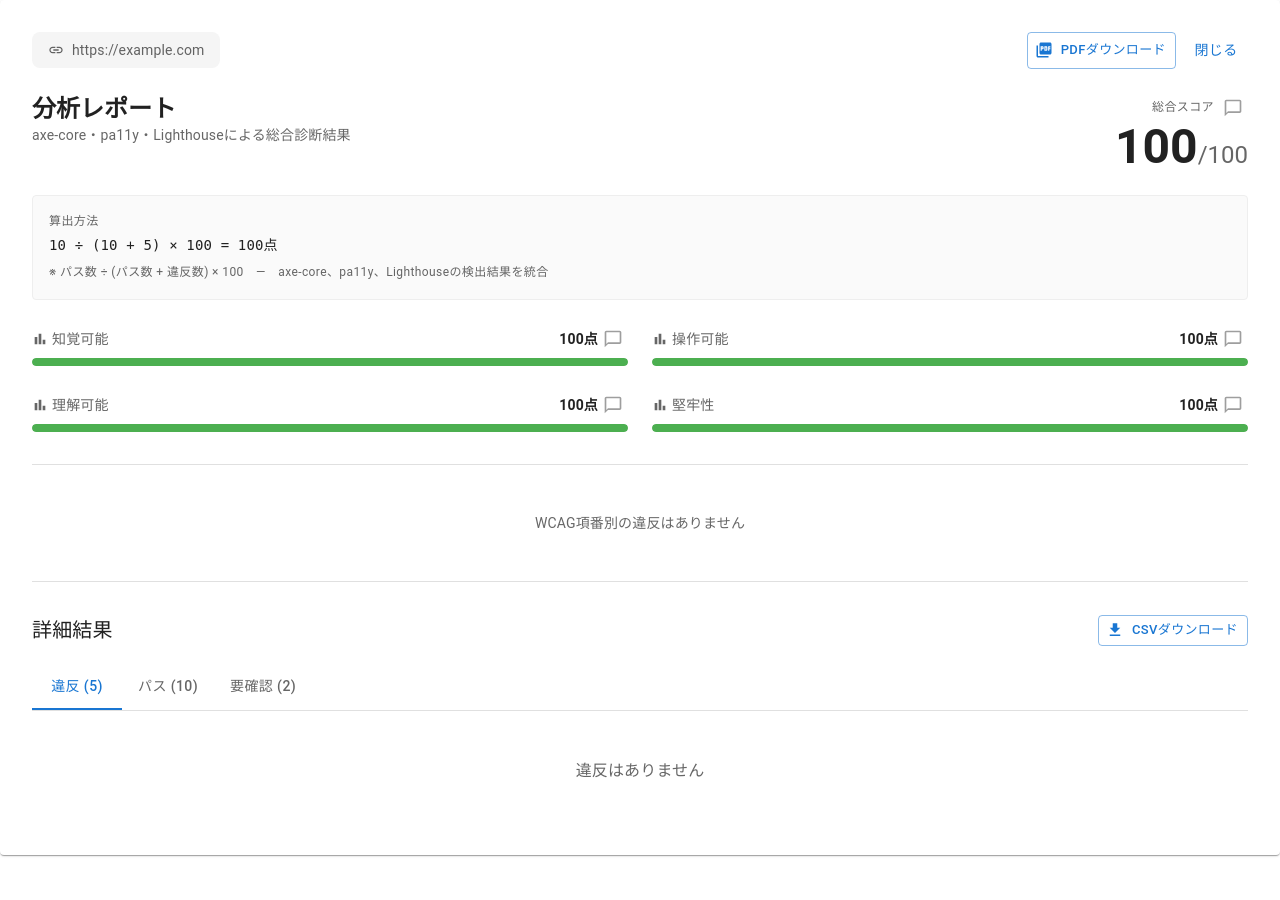
ReportSummary › Task 5: UI統合 - レポートPDFダウンロードボタン › Task 5.4: エラーハンドリングと再試行機能 › PDF生成失敗時にSnackbarでエラーメッセージが表示されること
Click the button "PDFダウンロード".
click(1101, 50)  # box [1027,32,1176,68]
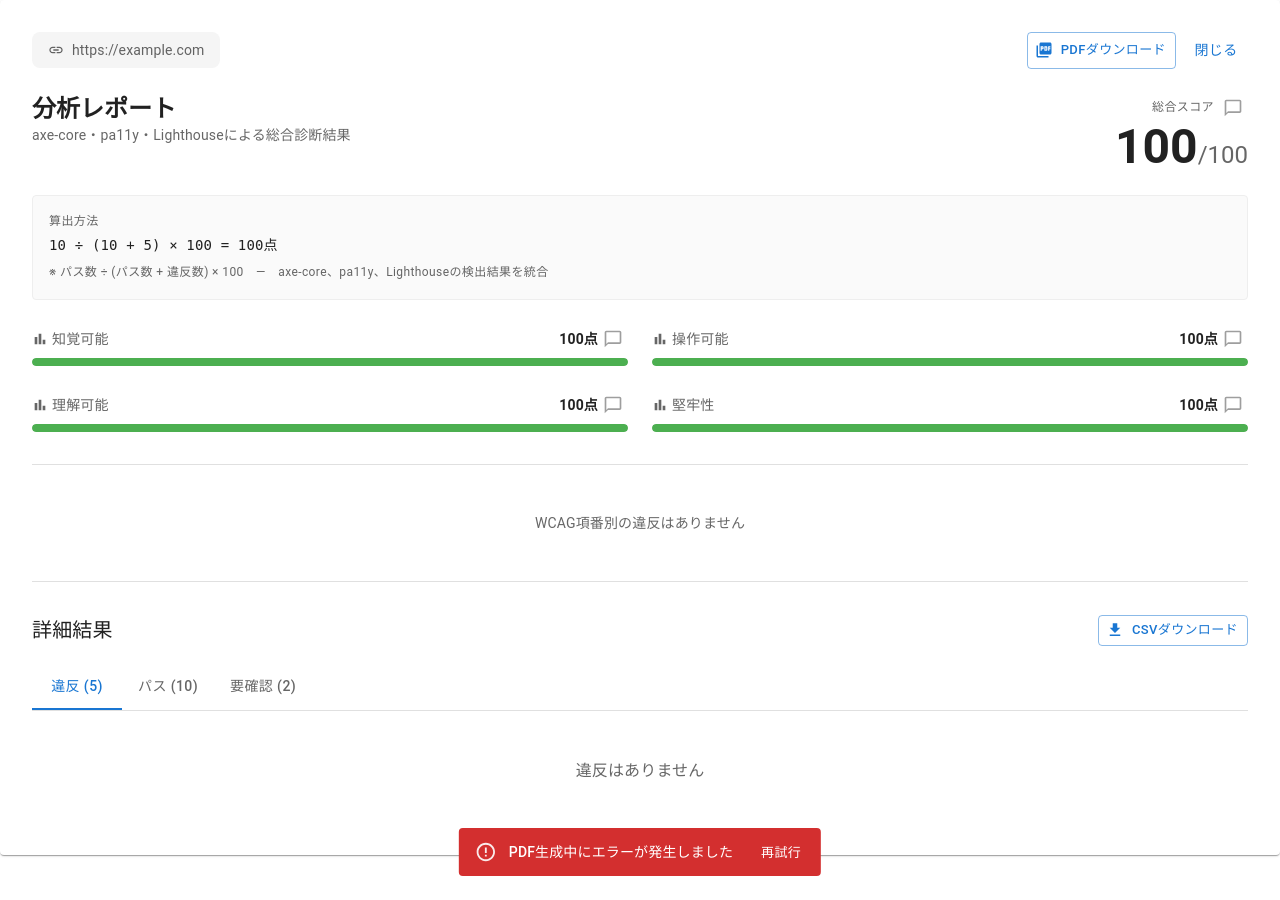
Result: the message "PDF生成中にエラーが発生しました 再試行" is shown at [459,828,821,876]
Result: the text "PDF生成中にエラーが発生しました" is shown at [509,844,733,860]
